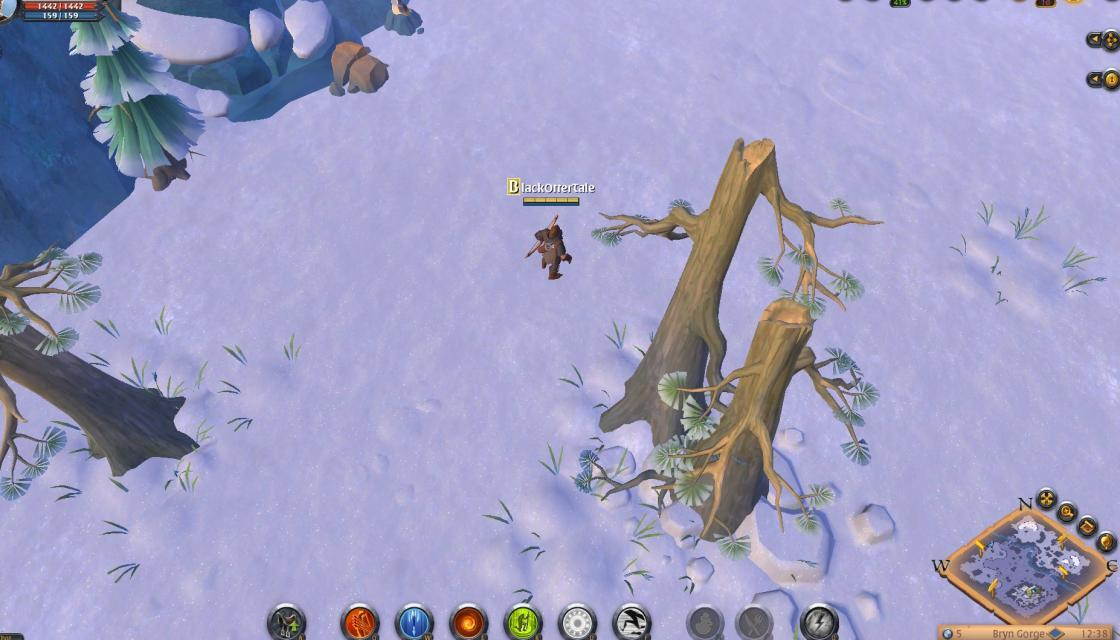copperore: (382, 0, 429, 45)
limestone: (322, 36, 389, 99)
